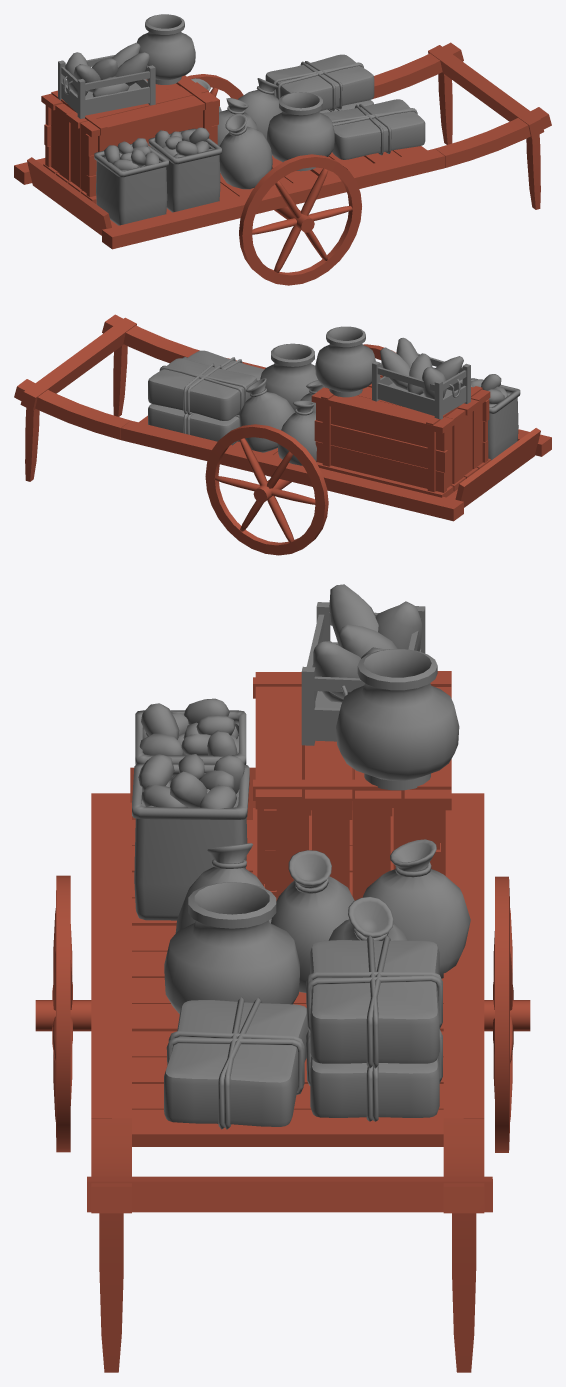
File: SM_cart_wares_04.fbx
3 renders of one model, top to bottom at view 1: azimuth 30°, elevation 25°; view 2: azimuth 150°, elevation 25°; view 3: azimuth 270°, elevation 25°, orthographic. The views are drawn at different scales.
Visible parts, largest first — view 1: Object32433; view 2: Object32433; view 3: Object32433.
Part boxes in pixels (left/top/right/bottom): Object32433: left=14, top=14, right=551, bottom=285; Object32433: left=14, top=314, right=551, bottom=555; Object32433: left=35, top=584, right=530, bottom=1372.
Bounding box in the file's own units: 156 × 71.88 × 75.74.
